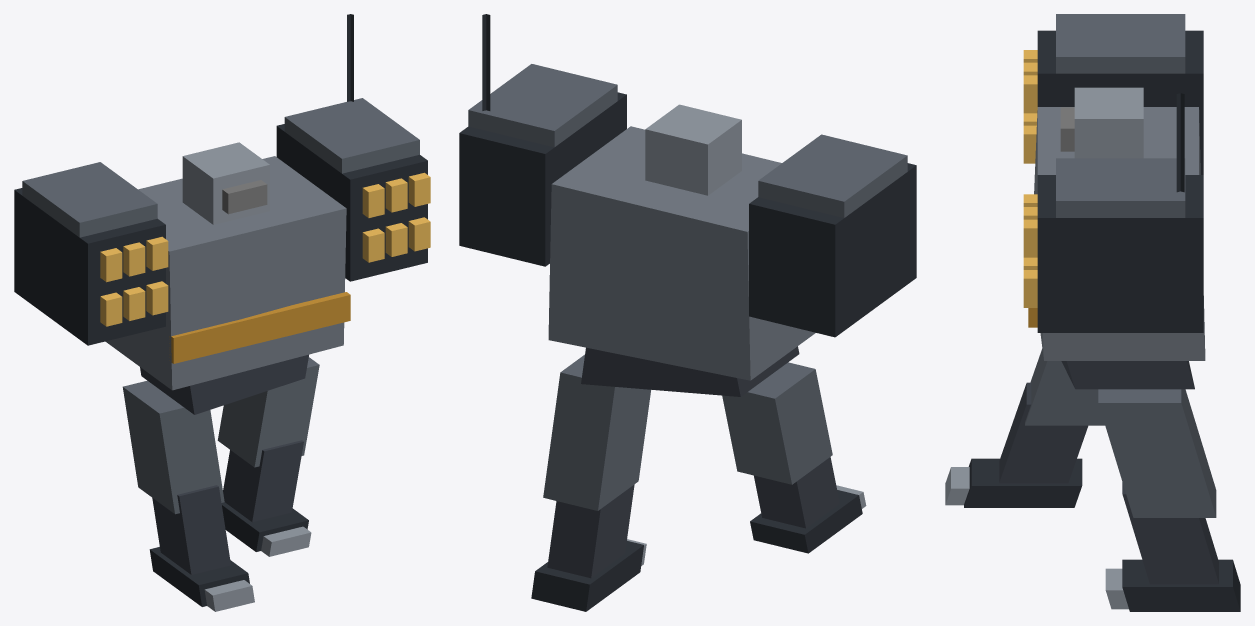
The model's file is javelin-walk-6.obj.
3 views of the same model, side by side, from view 1: azimuth 30°, elevation 25°; view 2: azimuth 150°, elevation 25°; view 3: azimuth 270°, elevation 25° (orthographic). The views are drawn at different scales.
Visible parts, largest first — view 1: javelin-walk-6; view 2: javelin-walk-6; view 3: javelin-walk-6.
Boxes of the visible parts, x1,y1,x2,y2 form: javelin-walk-6: [14, 14, 430, 611]; javelin-walk-6: [459, 14, 916, 611]; javelin-walk-6: [945, 14, 1240, 611].
Bounding box in the file's own units: 1.92 × 2.65 × 1.28.
